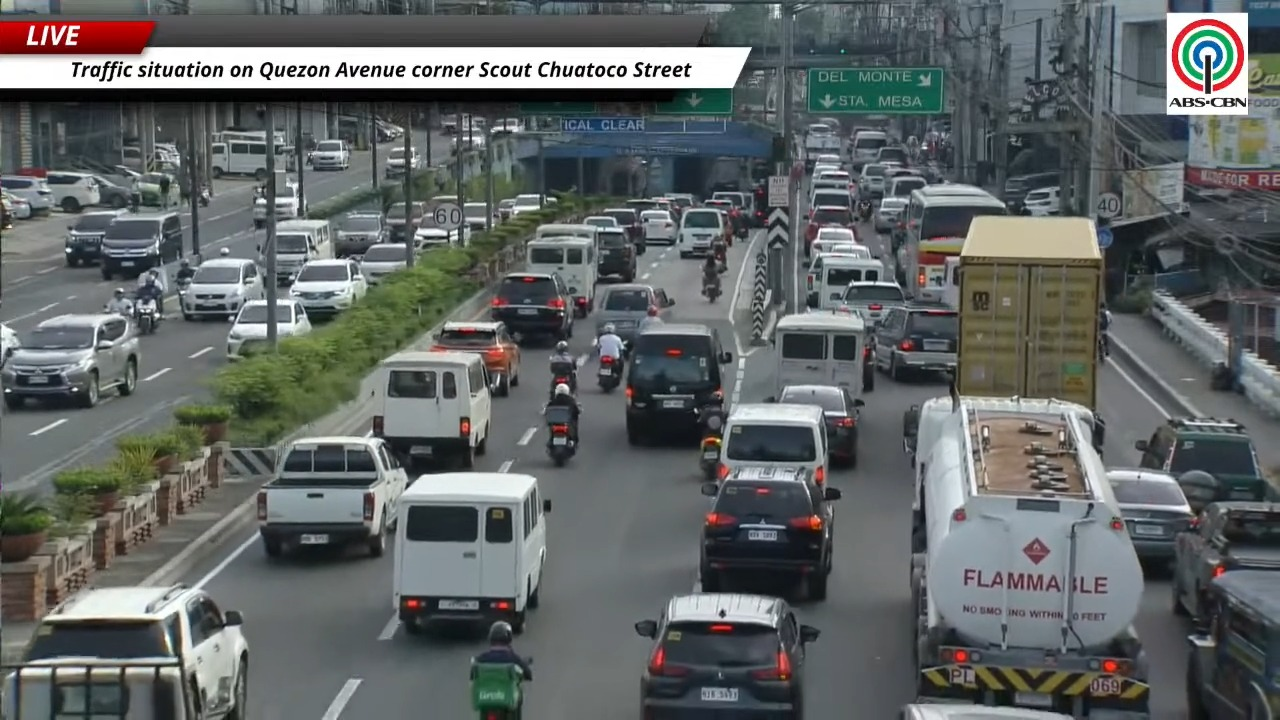bus: (895, 185, 1007, 302), (209, 142, 267, 180), (211, 129, 266, 142)
car: (23, 584, 249, 718), (634, 592, 819, 719), (700, 465, 840, 600), (0, 313, 140, 409), (1172, 502, 1279, 623), (626, 322, 731, 445), (1135, 417, 1270, 500), (1107, 468, 1195, 561), (776, 385, 864, 466), (431, 321, 520, 396), (873, 305, 957, 380), (491, 272, 573, 339), (182, 257, 265, 320), (593, 283, 674, 340), (289, 260, 366, 317), (64, 210, 121, 267), (841, 280, 907, 326), (895, 703, 1071, 719), (677, 206, 731, 258), (226, 300, 270, 359), (334, 211, 388, 257), (45, 171, 100, 212), (597, 227, 636, 282), (0, 175, 54, 214), (805, 206, 855, 247), (359, 243, 408, 284), (811, 228, 870, 257), (384, 202, 425, 241), (137, 172, 180, 208), (600, 207, 642, 243), (413, 226, 470, 251), (90, 174, 129, 209), (308, 139, 350, 170), (873, 196, 908, 232), (640, 210, 676, 244), (384, 147, 423, 177), (1021, 186, 1060, 216), (463, 202, 500, 231), (857, 162, 886, 197), (0, 191, 32, 222), (511, 194, 551, 216), (0, 323, 20, 366), (814, 226, 858, 243), (624, 198, 658, 216), (582, 215, 621, 228), (497, 198, 516, 222), (815, 153, 842, 167), (812, 162, 840, 175)
motorcycle: (470, 660, 524, 719), (697, 403, 724, 481), (543, 405, 575, 466), (549, 360, 577, 397), (134, 297, 159, 334), (597, 355, 621, 393), (175, 278, 190, 318), (104, 302, 134, 319), (702, 277, 720, 302), (1097, 332, 1109, 363), (857, 200, 872, 221), (197, 185, 211, 207), (712, 246, 726, 267)
truck: (904, 386, 1150, 719), (956, 216, 1103, 409), (256, 436, 408, 557), (0, 658, 200, 719), (803, 122, 842, 169)
